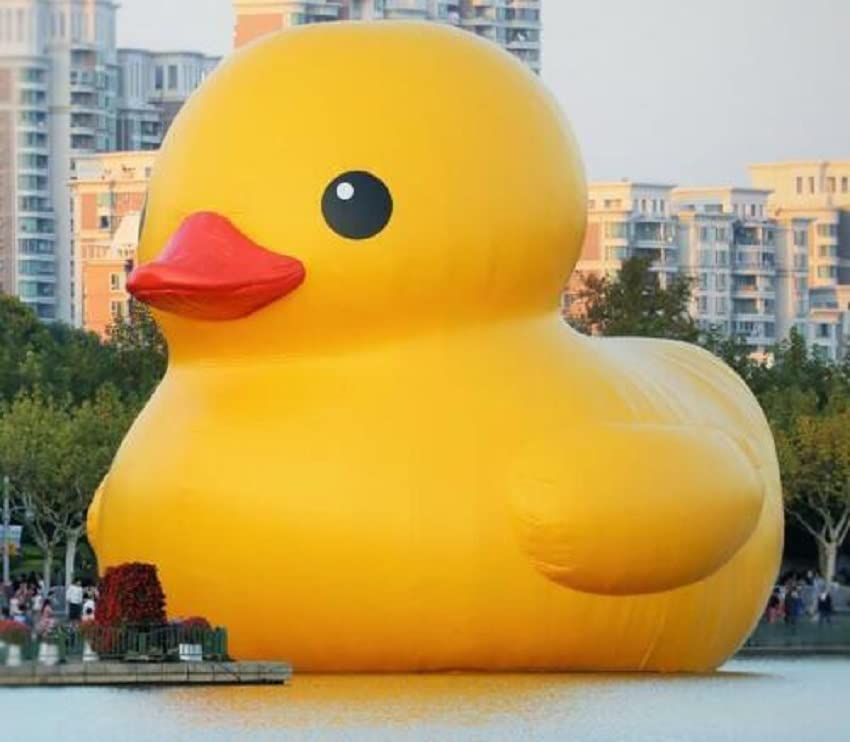duck_regular: (84, 15, 790, 672)
